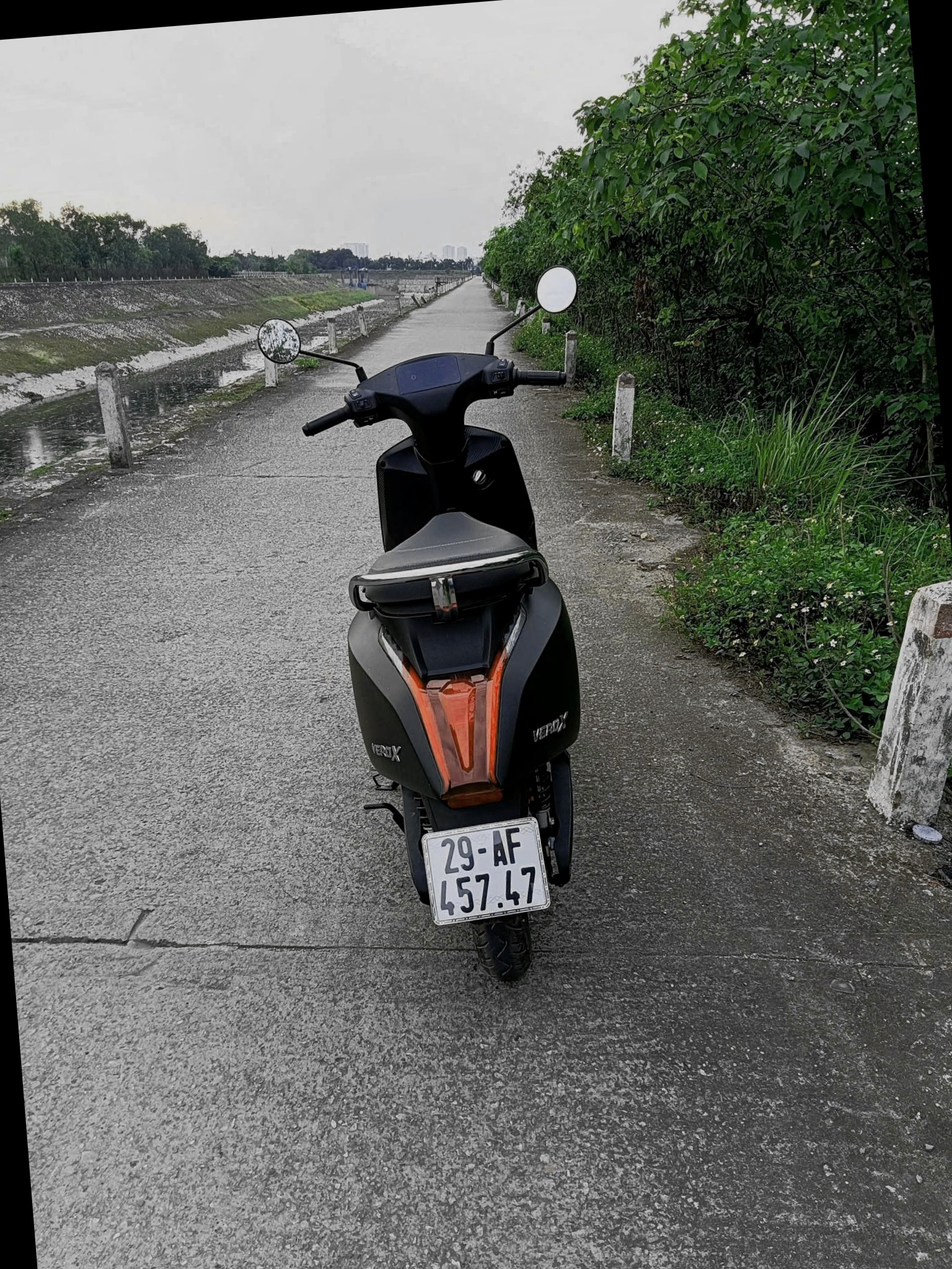Bien-so: (440, 748, 562, 857)
